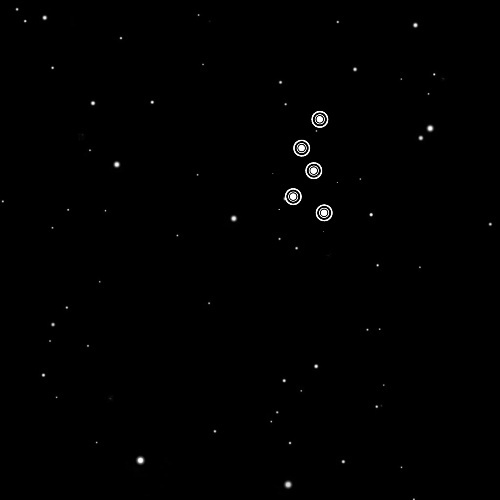cassiopeia: (275, 96, 343, 238)
